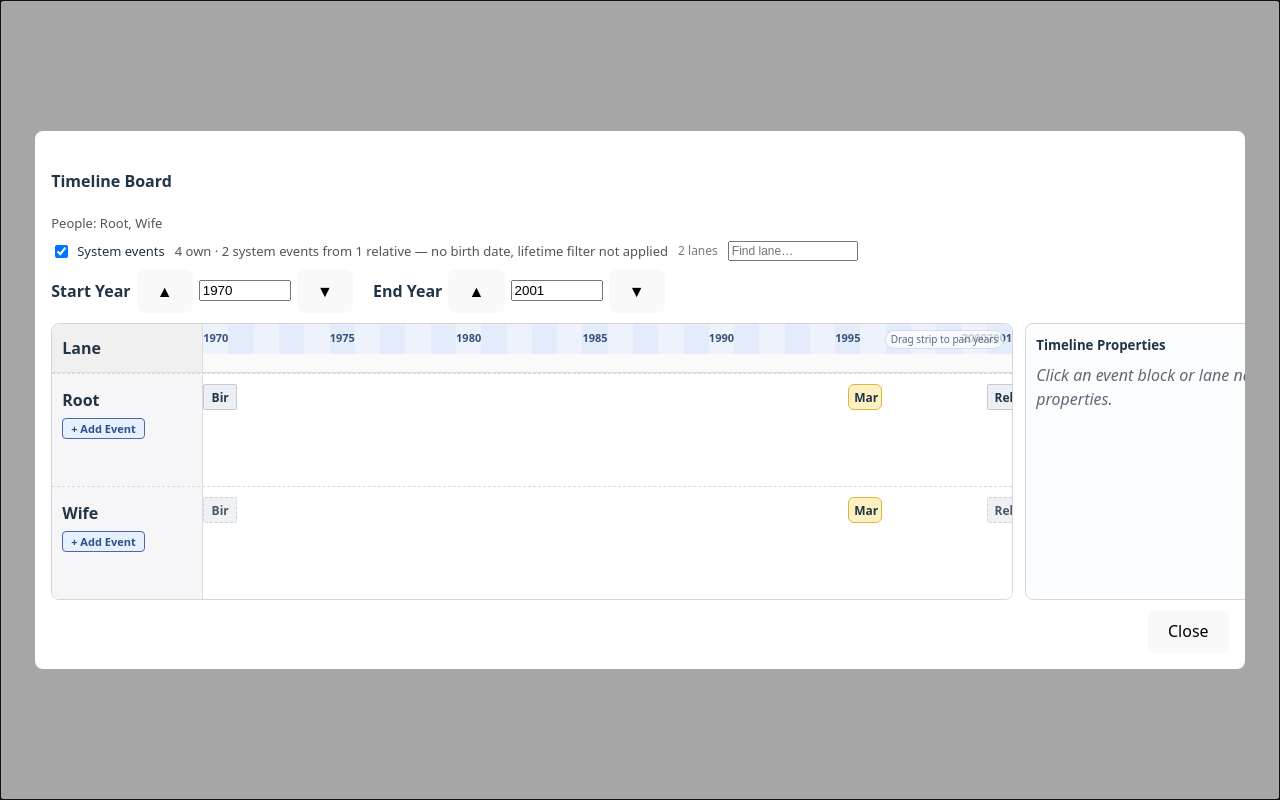
Scenario: lane search › narrows the lanes by name and says how many are shown
The width and height of the screenshot is (1280, 800).
Expected: the text "2 lanes" is shown, [678,242,718,260]
Type "wif" into the search field labelled "Find lane" at (793, 251), box [728,241,858,261]
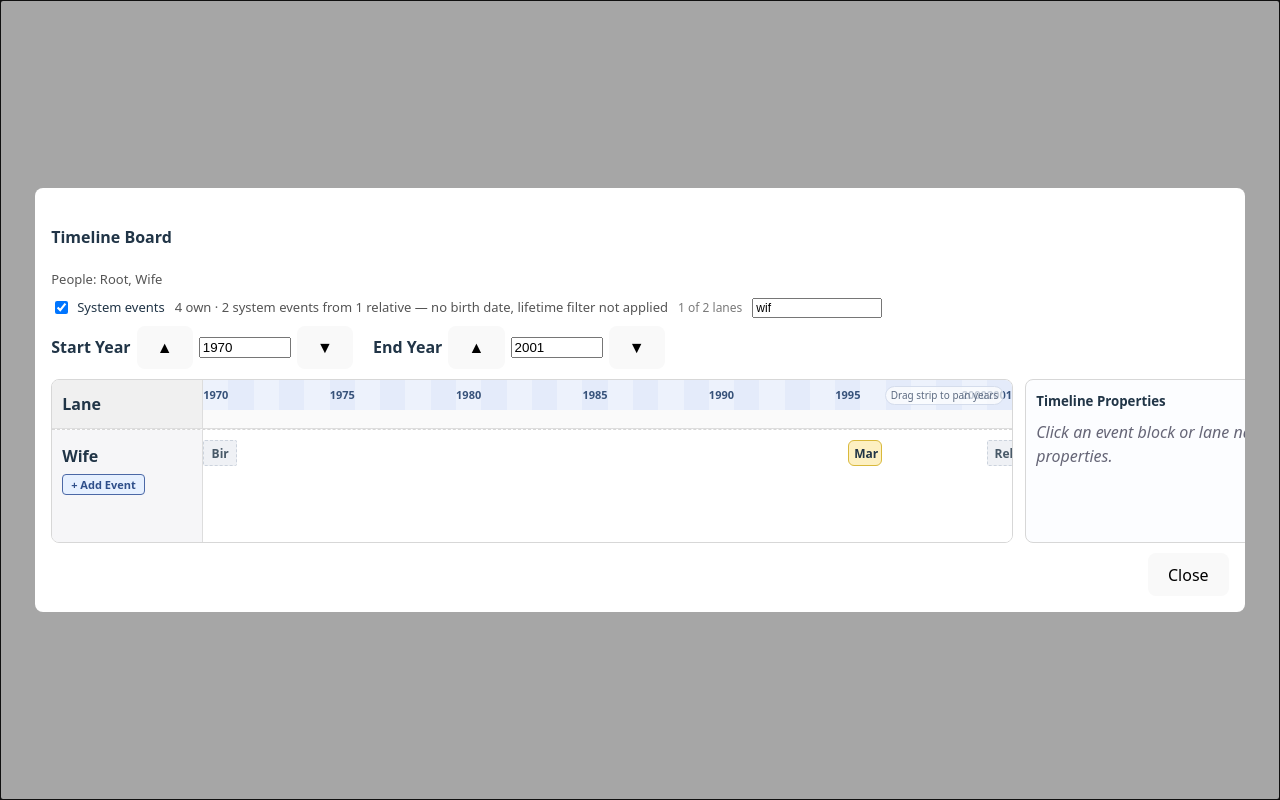
Expected: the button titled "Add event for Wife" is shown, [62,474,145,495]
Now the text "1 of 2 lanes" is shown, box [678,299,742,317]
